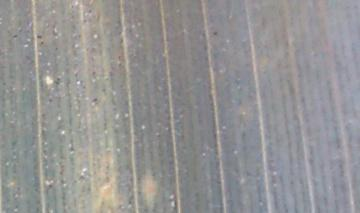tarspot: (212, 29, 218, 37), (91, 97, 99, 103), (12, 33, 19, 39), (36, 34, 42, 39)
